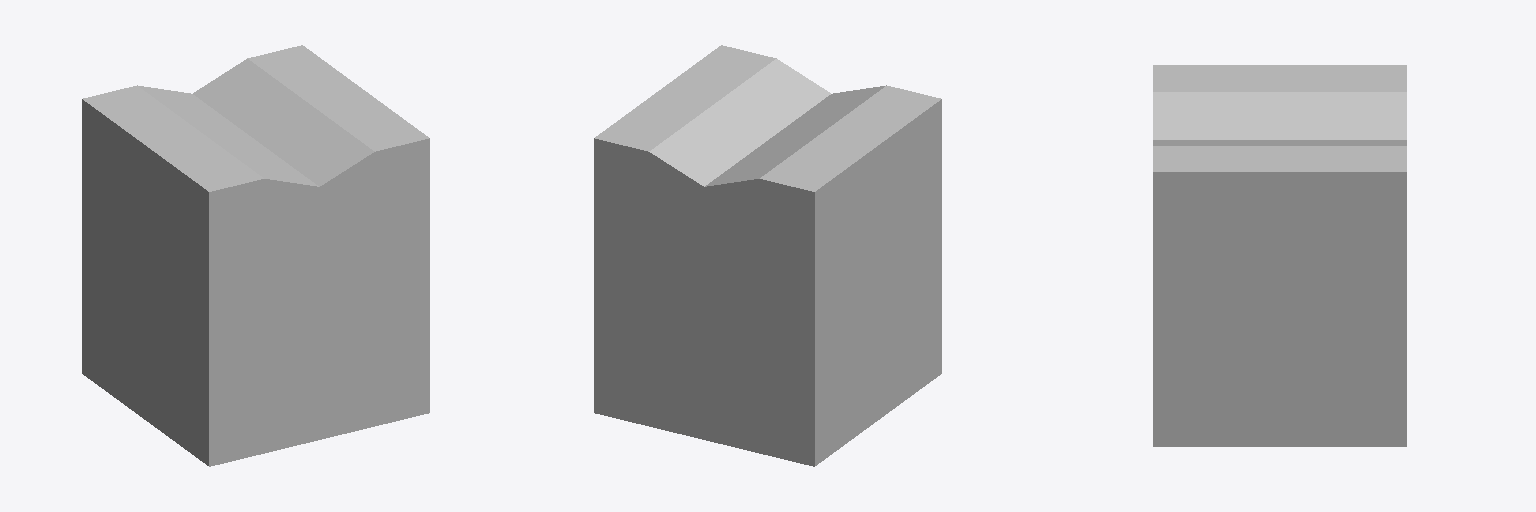
The model's file is TD_Waterwalkway_Base.obj.
3 renders of one model, left to right at view 1: azimuth 30°, elevation 25°; view 2: azimuth 150°, elevation 25°; view 3: azimuth 270°, elevation 25°, orthographic.
Parts seen in each view (by area): view 1: pCube14; view 2: pCube14; view 3: pCube14.
Part boxes in pixels (bbox=[...]): pCube14: bbox=[82, 45, 429, 466]; pCube14: bbox=[594, 45, 941, 466]; pCube14: bbox=[1153, 65, 1406, 446].
Bounding box in the file's own units: 2 × 2.38 × 2.